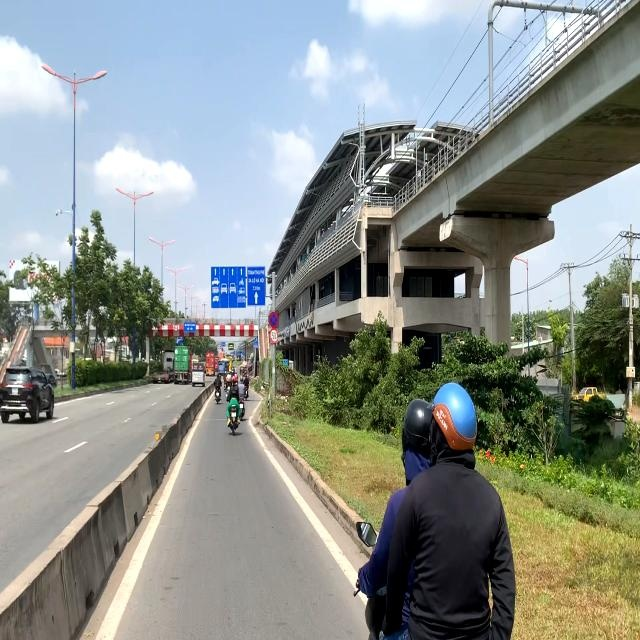bien_chi_dan: (268, 310, 279, 328), (270, 330, 278, 343)
